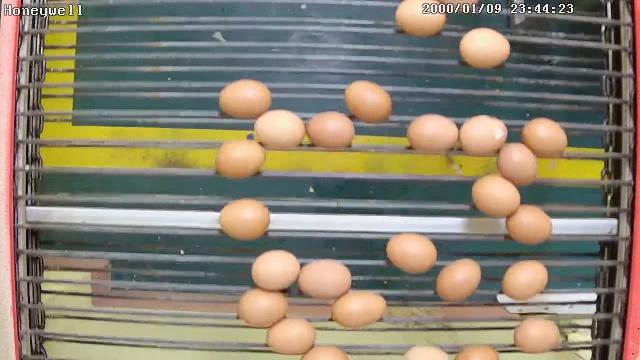egg: (218, 197, 272, 242), (330, 288, 388, 329), (458, 26, 512, 70), (384, 232, 438, 276), (343, 78, 394, 124), (470, 173, 522, 218), (236, 285, 288, 329), (298, 258, 352, 300), (218, 78, 273, 119), (253, 108, 306, 150), (406, 112, 459, 154), (215, 138, 268, 180), (458, 113, 508, 157), (250, 248, 300, 292), (504, 202, 554, 246), (436, 258, 482, 303), (394, 0, 448, 38), (501, 258, 548, 301), (266, 316, 316, 356), (306, 110, 357, 149), (497, 140, 539, 187), (522, 116, 568, 158), (513, 317, 560, 355)
